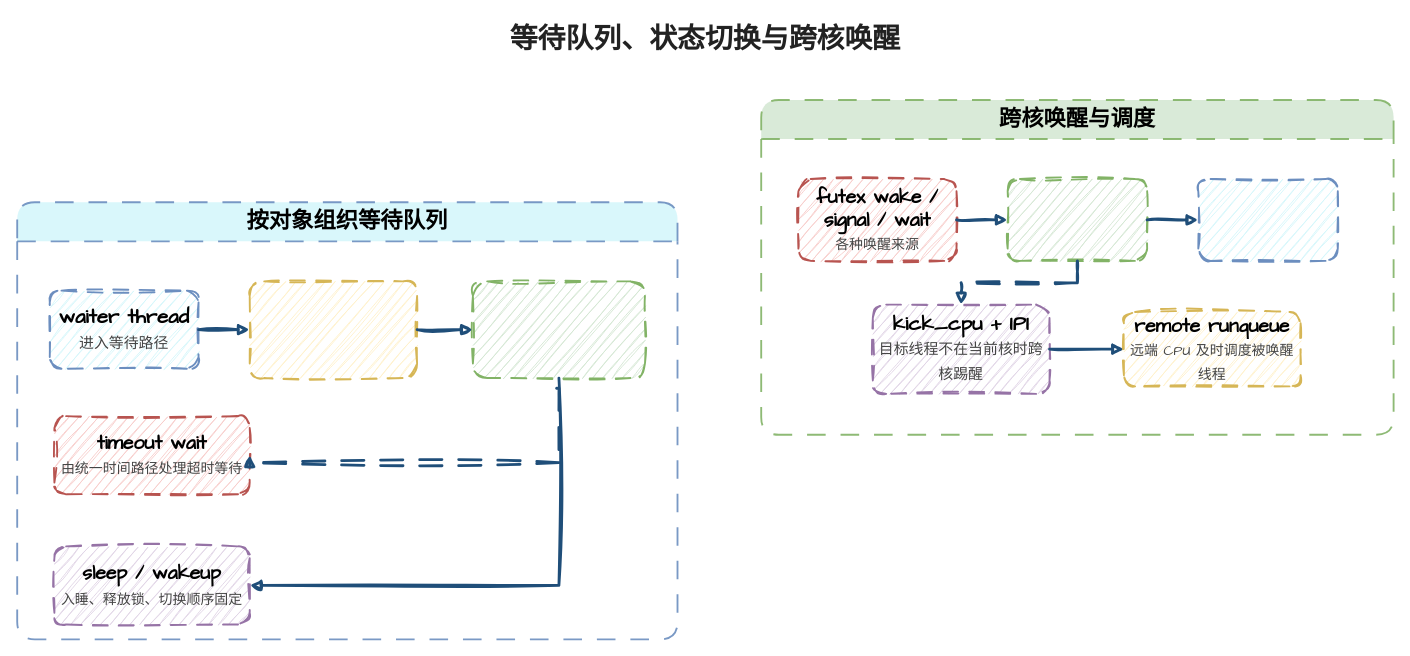
Image size: 1410x656. Some labels were removed from this diagram. Here are the shapes that lost their labels. From the top down, the centre of each, then its label:
At point 1077,219: "READY 修改线程状态并出队".
At point 1267,219: "local runqueue 目标核就是当前核".
At point 333,329: "futex key / object 等待线程按 key 进入对应分组".
At point 558,329: "hash bucket 只在相关 bucket 中扫描等待者".
